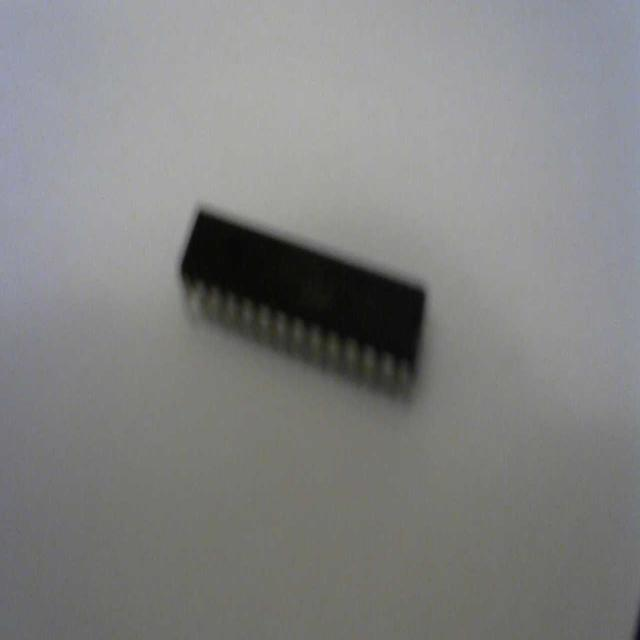atmega: (177, 200, 429, 404)
